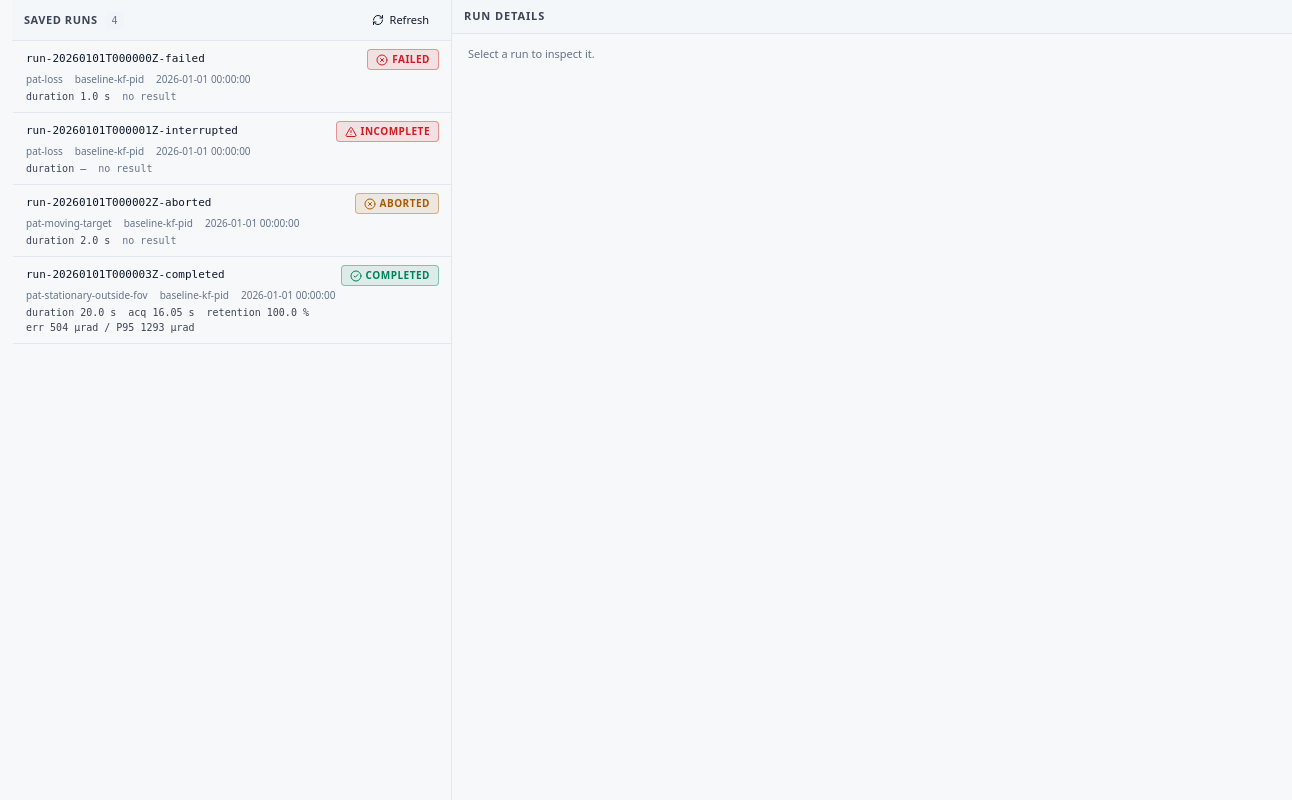
Test: inspecting a run › explains why an incomplete run has no results, and offers no report or verification
Expected: the button with aria-label "Open run run-20260101T000003Z-completed" is shown, [12, 257, 451, 344]
Click the button with aria-label "Open run run-20260101T000001Z-interrupted": click(232, 149) [12, 113, 451, 185]
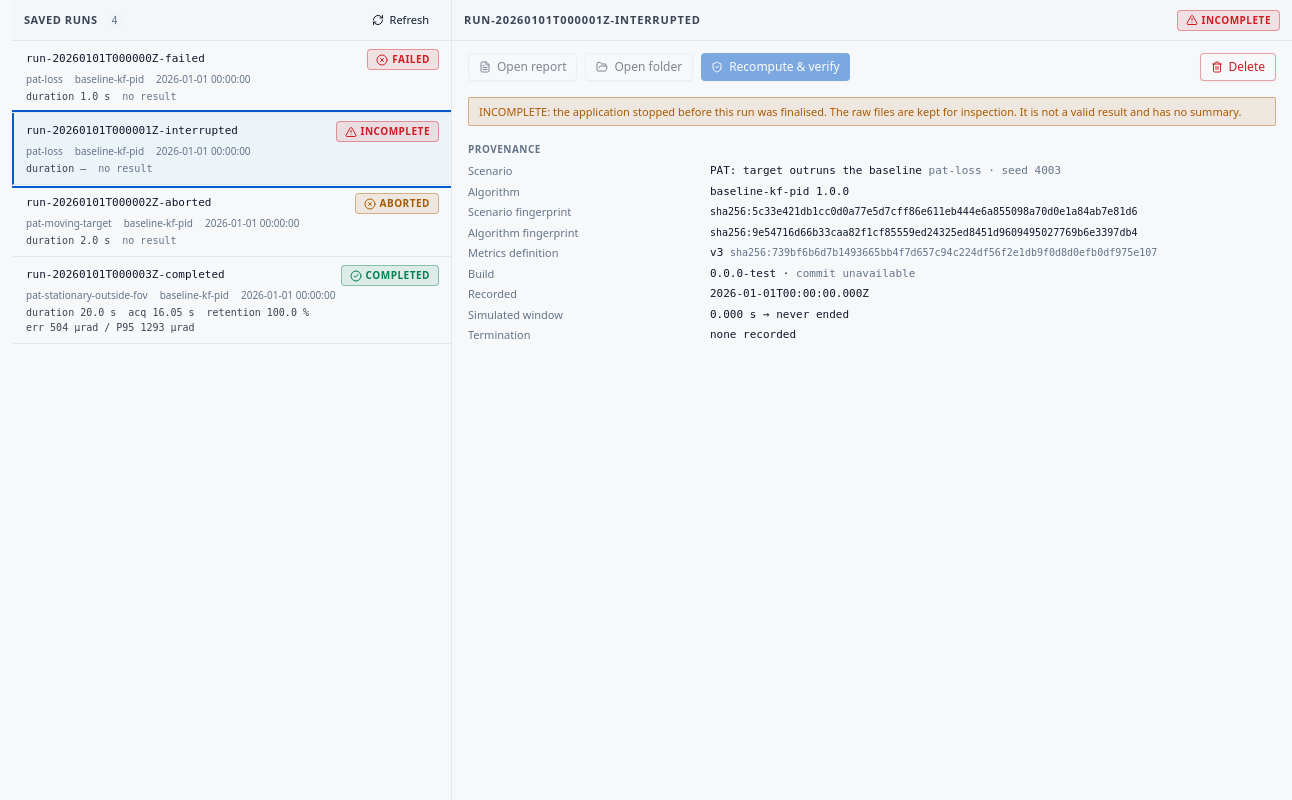
Now the button "Open report" is disabled, box [468, 53, 578, 81]
Now the button with aria-label "Recompute and verify summary" is disabled, box [701, 53, 850, 81]
